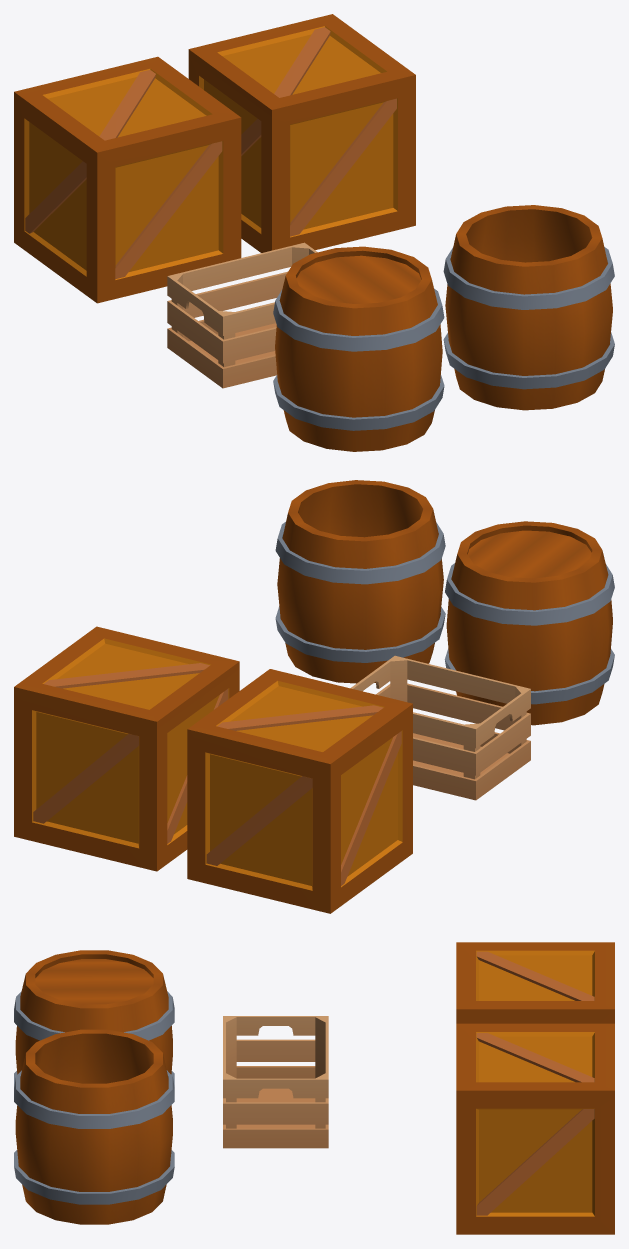
File: crates.fbx
The picture shows the model from 3 angles, top to bottom: view 1: azimuth 30°, elevation 25°; view 2: azimuth 150°, elevation 25°; view 3: azimuth 270°, elevation 25°; orthographic projection. The views are drawn at different scales.
Parts seen in each view (by area): view 1: crate, barrel, crate_Hollow, barrel_Separated_Body, crate_Hollow_Lid, crate_Pallet, barrel_Lid, barrel_Separated_Metal_Top, barrel_Separated_Metal_Bottom; view 2: crate, crate_Hollow, barrel_Separated_Body, barrel, crate_Pallet, crate_Hollow_Lid, barrel_Lid, barrel_Separated_Metal_Top, barrel_Separated_Metal_Bottom; view 3: barrel_Separated_Body, crate_Hollow, crate_Pallet, crate, crate_Hollow_Lid, barrel, barrel_Lid, barrel_Separated_Metal_Top, barrel_Separated_Metal_Bottom.
Boxes of the visible parts, <box> form: crate: <box>14,56,241,303</box>; barrel: <box>273,246,444,451</box>; crate_Hollow: <box>188,56,415,252</box>; barrel_Separated_Body: <box>445,205,612,410</box>; crate_Hollow_Lid: <box>188,14,415,116</box>; crate_Pallet: <box>167,242,317,388</box>; barrel_Lid: <box>296,255,421,303</box>; barrel_Separated_Metal_Top: <box>443,247,614,309</box>; barrel_Separated_Metal_Bottom: <box>443,332,614,389</box>; crate: <box>187,669,412,913</box>; crate_Hollow: <box>14,669,239,871</box>; barrel_Separated_Body: <box>277,480,443,683</box>; barrel: <box>444,521,614,725</box>; crate_Pallet: <box>350,655,530,800</box>; crate_Hollow_Lid: <box>14,626,239,728</box>; barrel_Lid: <box>468,530,591,578</box>; barrel_Separated_Metal_Top: <box>275,522,445,584</box>; barrel_Separated_Metal_Bottom: <box>275,606,445,662</box>; barrel_Separated_Body: <box>15,1029,172,1224</box>; crate_Hollow: <box>456,1097,614,1234</box>; crate_Pallet: <box>223,1016,328,1148</box>; crate: <box>456,942,614,1023</box>; crate_Hollow_Lid: <box>456,1023,614,1097</box>; barrel: <box>14,950,174,1087</box>; barrel_Lid: <box>35,959,153,1004</box>; barrel_Separated_Metal_Top: <box>14,1070,174,1128</box>; barrel_Separated_Metal_Bottom: <box>14,1150,174,1204</box>.
Bounding box in the file's own units: 4.66 × 7.95 × 2.1.
